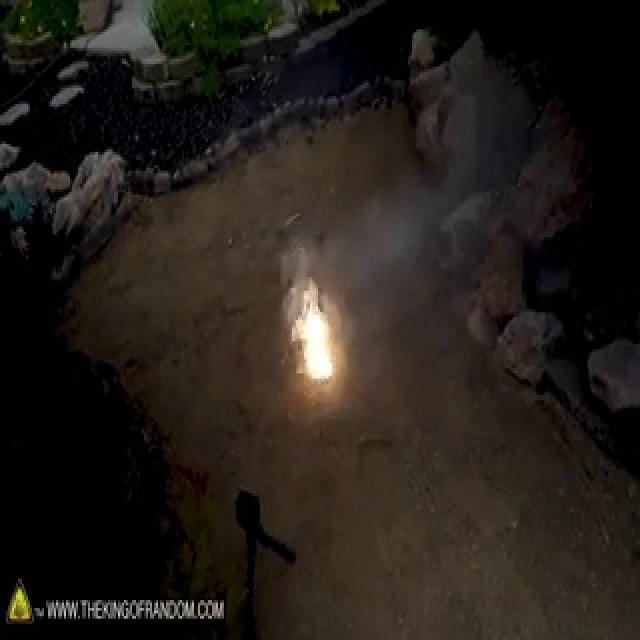Fire: (262, 154, 450, 292), (285, 309, 350, 386)
